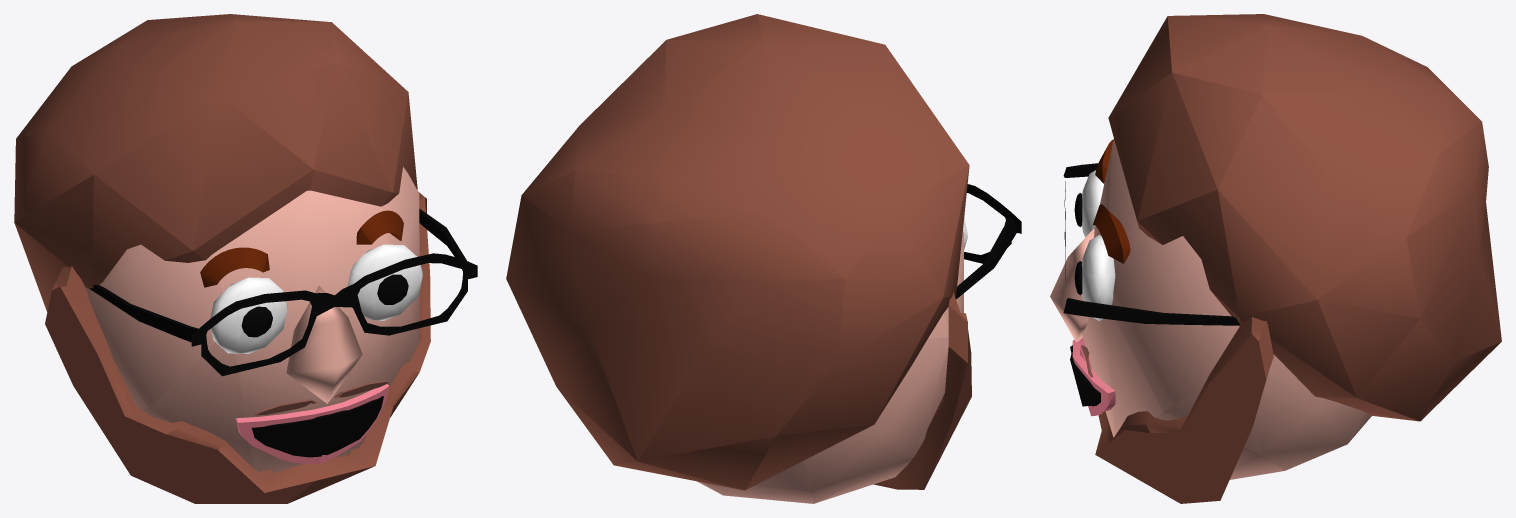
Rendered from face.gltf.glb.
3 views of the same model, side by side, from view 1: azimuth 30°, elevation 25°; view 2: azimuth 150°, elevation 25°; view 3: azimuth 270°, elevation 25° (orthographic). The views are drawn at different scales.
Parts seen in each view (by area): view 1: Default StructuredGeometry Name, Default StructuredGeometry Name.001, Barba - baked 2, Barba - baked 1, Capsule, Default StructuredGeometry Name.004, Default StructuredGeometry Name.002, Box - baked.001, Box - baked, Symmetry - baked 1, Symmetry - baked 2, Object 1 (+7 smaller); view 2: Default StructuredGeometry Name, Default StructuredGeometry Name.001, Barba - baked 2, Object 3.001, Box - baked; view 3: Default StructuredGeometry Name, Default StructuredGeometry Name.001, Barba - baked 1, Object 3, Default StructuredGeometry Name.002, Capsule, Capsule 1, Default StructuredGeometry Name.004, Object 1.001, Symmetry - baked 2.
Boxes of the visible parts, x1=… form: Default StructuredGeometry Name: x1=14, y1=14, x2=417, y2=311; Default StructuredGeometry Name.001: x1=85, y1=167, x2=419, y2=472; Barba - baked 2: x1=45, y1=266, x2=316, y2=503; Barba - baked 1: x1=288, y1=191, x2=430, y2=503; Capsule: x1=286, y1=286, x2=362, y2=403; Default StructuredGeometry Name.004: x1=210, y1=277, x2=287, y2=353; Default StructuredGeometry Name.002: x1=347, y1=244, x2=422, y2=320; Box - baked.001: x1=332, y1=253, x2=477, y2=335; Box - baked: x1=191, y1=290, x2=336, y2=376; Symmetry - baked 1: x1=252, y1=414, x2=333, y2=457; Symmetry - baked 2: x1=322, y1=396, x2=383, y2=454; Object 1: x1=236, y1=406, x2=330, y2=464; Default StructuredGeometry Name: x1=506, y1=14, x2=969, y2=490; Default StructuredGeometry Name.001: x1=697, y1=231, x2=963, y2=503; Barba - baked 2: x1=873, y1=292, x2=971, y2=489; Object 3.001: x1=955, y1=218, x2=1017, y2=299; Box - baked: x1=964, y1=184, x2=1021, y2=263; Default StructuredGeometry Name: x1=1108, y1=14, x2=1501, y2=421; Default StructuredGeometry Name.001: x1=1082, y1=140, x2=1371, y2=479; Barba - baked 1: x1=1095, y1=317, x2=1273, y2=503; Object 3: x1=1063, y1=298, x2=1240, y2=325; Default StructuredGeometry Name.002: x1=1082, y1=235, x2=1115, y2=321; Capsule: x1=1050, y1=229, x2=1094, y2=342; Capsule 1: x1=1093, y1=204, x2=1130, y2=263; Default StructuredGeometry Name.004: x1=1082, y1=170, x2=1103, y2=237; Object 1.001: x1=1072, y1=348, x2=1115, y2=416; Symmetry - baked 2: x1=1070, y1=353, x2=1100, y2=406.
Bounding box in the file's own units: 0.4597 × 0.5029 × 0.4572.
